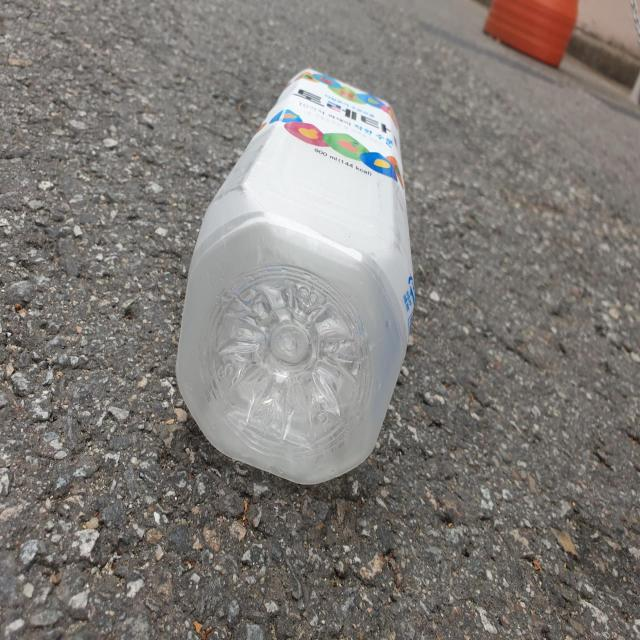plastic: (176, 68, 416, 484)
